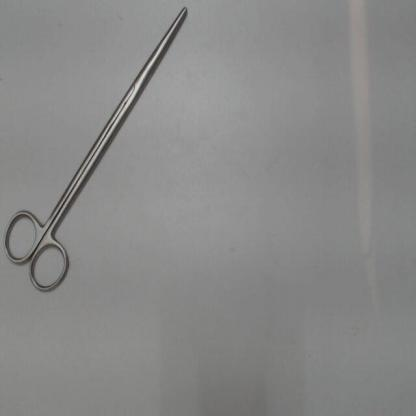9 Metzenbaum Scissors: (1, 3, 192, 299)
